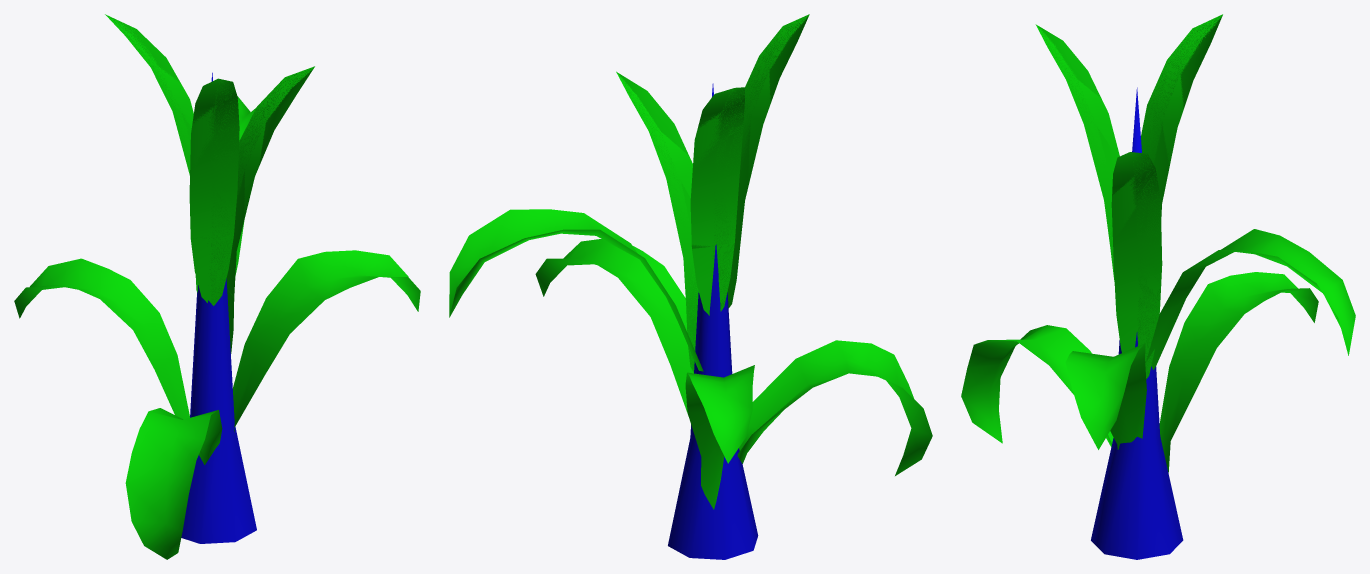
The model's file is Corn_1.fbx.
3 views of the same model, side by side, from view 1: azimuth 30°, elevation 25°; view 2: azimuth 150°, elevation 25°; view 3: azimuth 270°, elevation 25° (orthographic).
Parts seen in each view (by area): view 1: BSTC_Corn_1; view 2: BSTC_Corn_1; view 3: BSTC_Corn_1.
Boxes of the visible parts, x1=… form: BSTC_Corn_1: x1=14, y1=14, x2=420, y2=559; BSTC_Corn_1: x1=449, y1=14, x2=932, y2=559; BSTC_Corn_1: x1=961, y1=14, x2=1355, y2=559.
Size of the model in its own units: 20.59 by 29.02 by 20.98.
